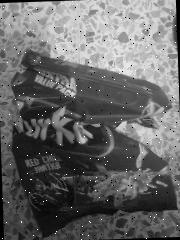general: (9, 44, 178, 224)
